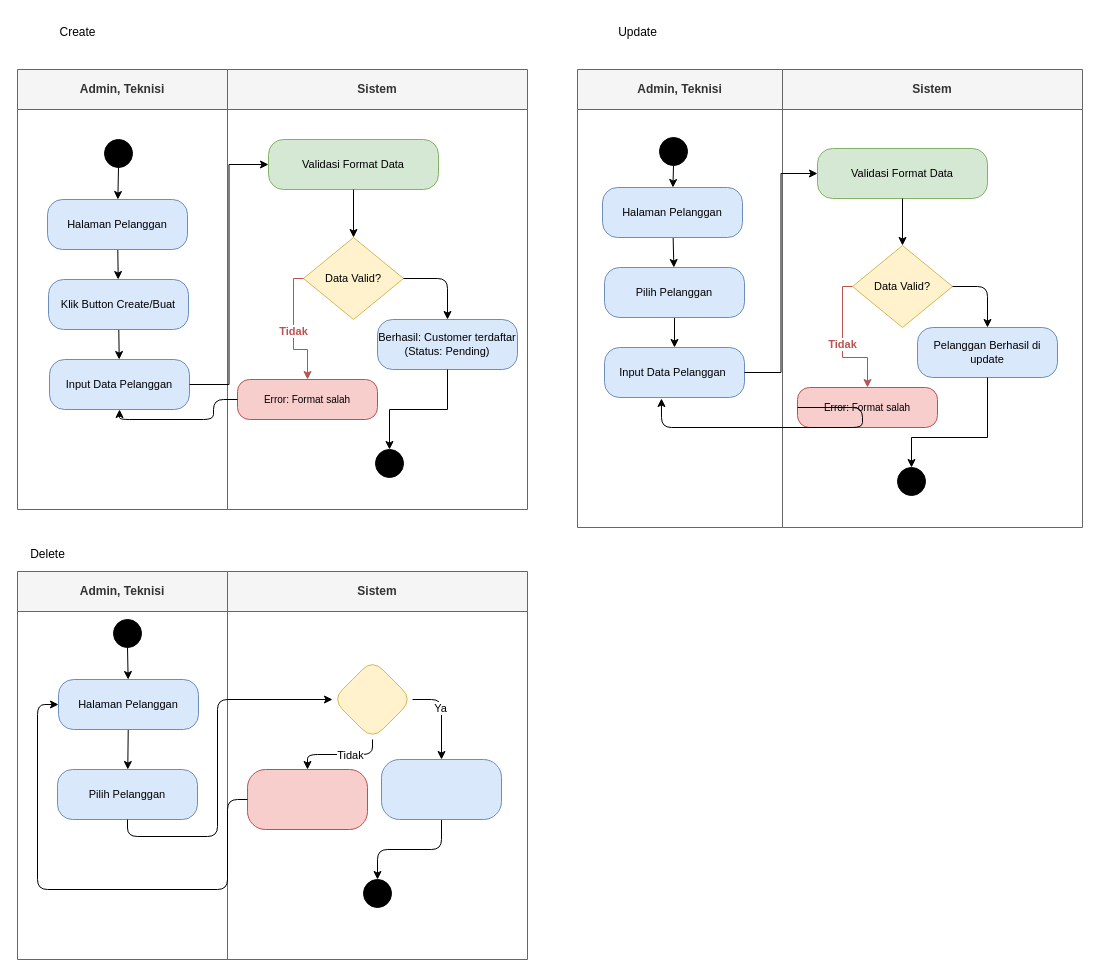
Image size: 1100x977. Some labels were removed from this diagram. Each missing label, with the box of its shape:
Data dikembalikan: (246, 768, 368, 830)
Data Pelanggan Terhapus: (380, 758, 502, 820)
Tampilkan Konfirmasi: (332, 658, 412, 740)
